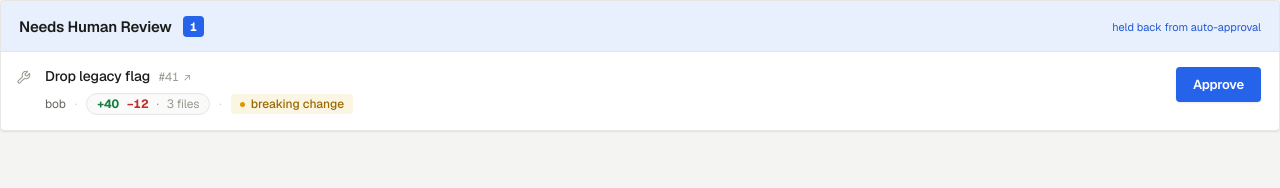
Test: NeedsReview › surfaces an approve error
The image size is (1280, 188).
Click the button with aria-label "approve #41": (1218, 84) [1176,67,1261,102]
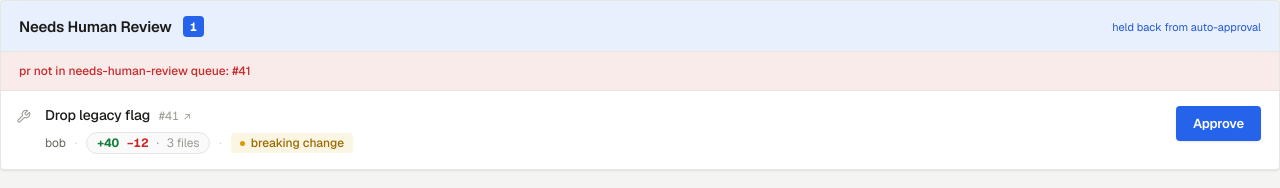
Now the message shows "not in needs-human-review queue", box [19,63,250,79]
